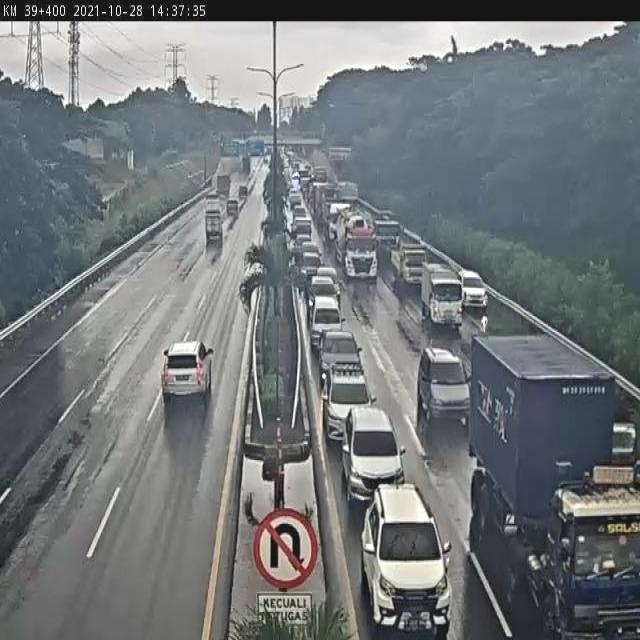Car: (359, 481, 451, 636), (341, 405, 404, 506), (155, 334, 222, 410), (416, 344, 472, 432), (317, 326, 363, 389), (458, 269, 488, 313), (309, 273, 339, 315), (300, 240, 322, 277), (288, 190, 304, 211), (226, 197, 238, 219), (239, 185, 248, 201)
Truck: (470, 317, 639, 640), (329, 208, 381, 279), (419, 257, 460, 331), (389, 239, 425, 296)
Van: (201, 190, 229, 252)
